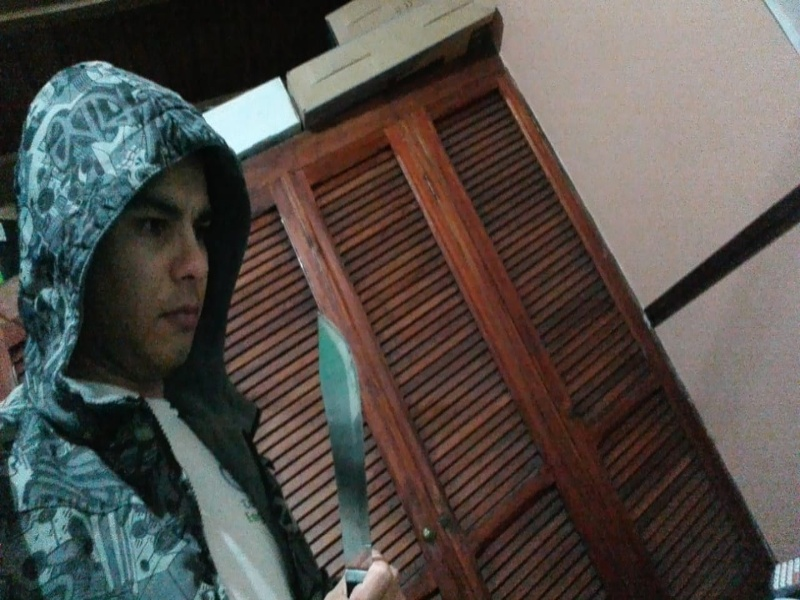bonnet: (15, 61, 251, 398)
knife: (315, 314, 375, 600)
person: (1, 58, 410, 599)
